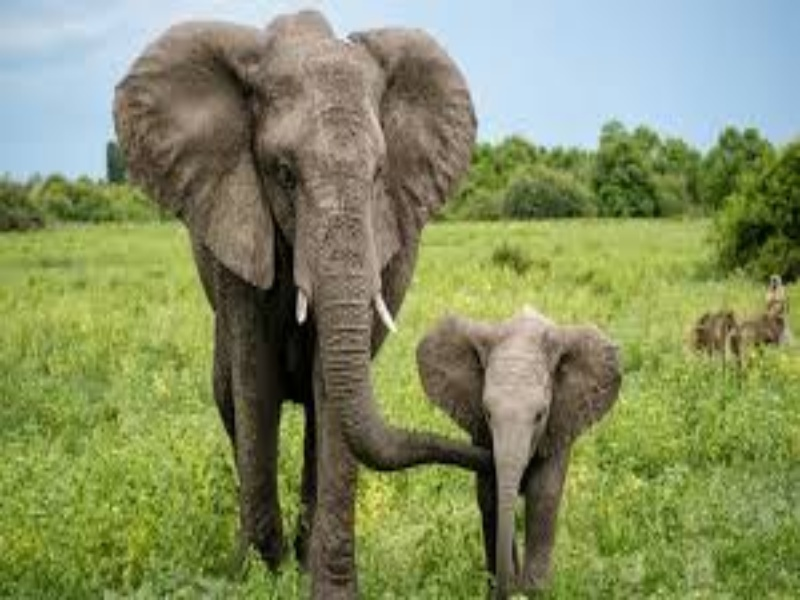elephant: (109, 11, 486, 586), (402, 296, 649, 599)
